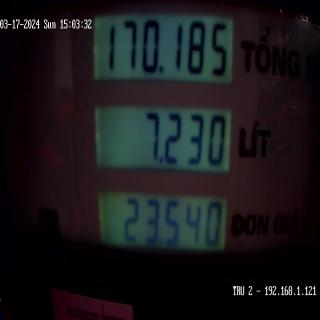screen: (90, 3, 239, 286)
